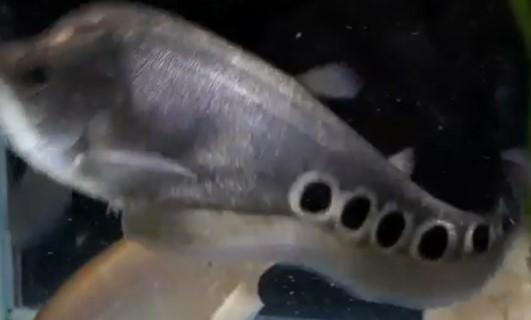Knifefish: (0, 0, 522, 303)
